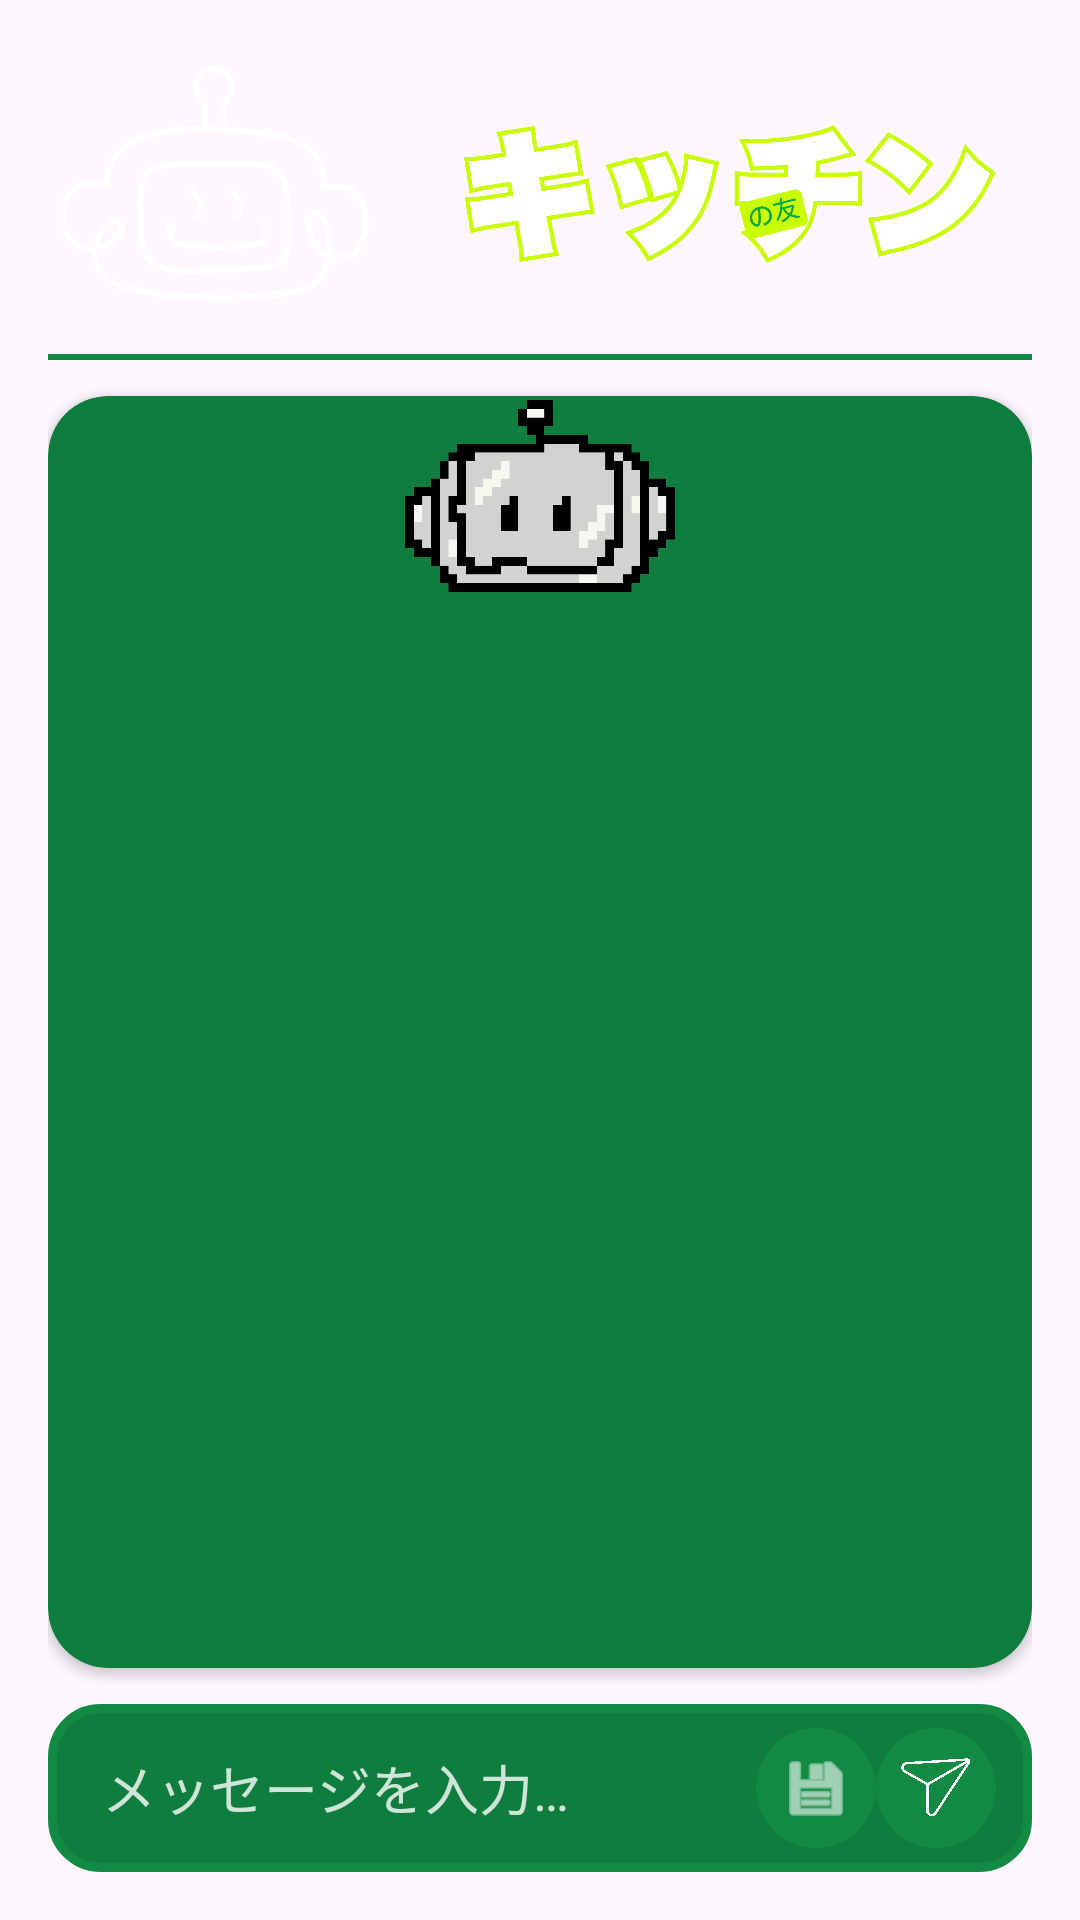

Named icons in this screenshot (1080*1920) and their bounding boxes, (x1, y1, x2, y2):
save: (789, 1761, 843, 1816)
send: (876, 1728, 996, 1848)
